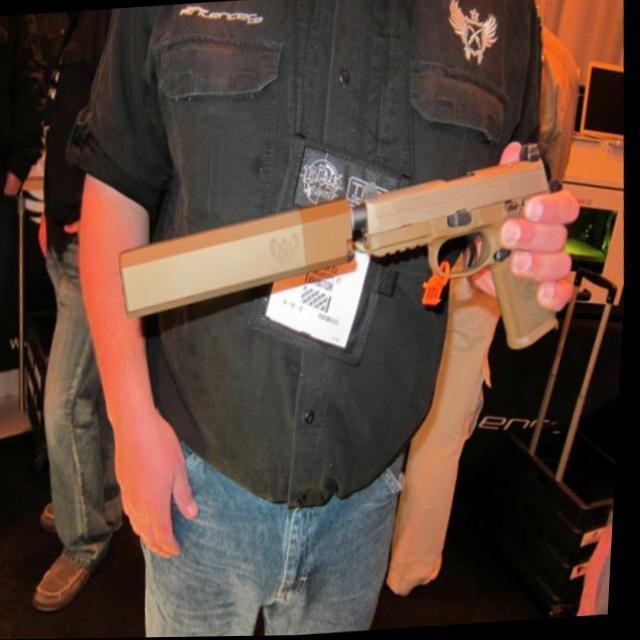weapon: (111, 141, 578, 378)
